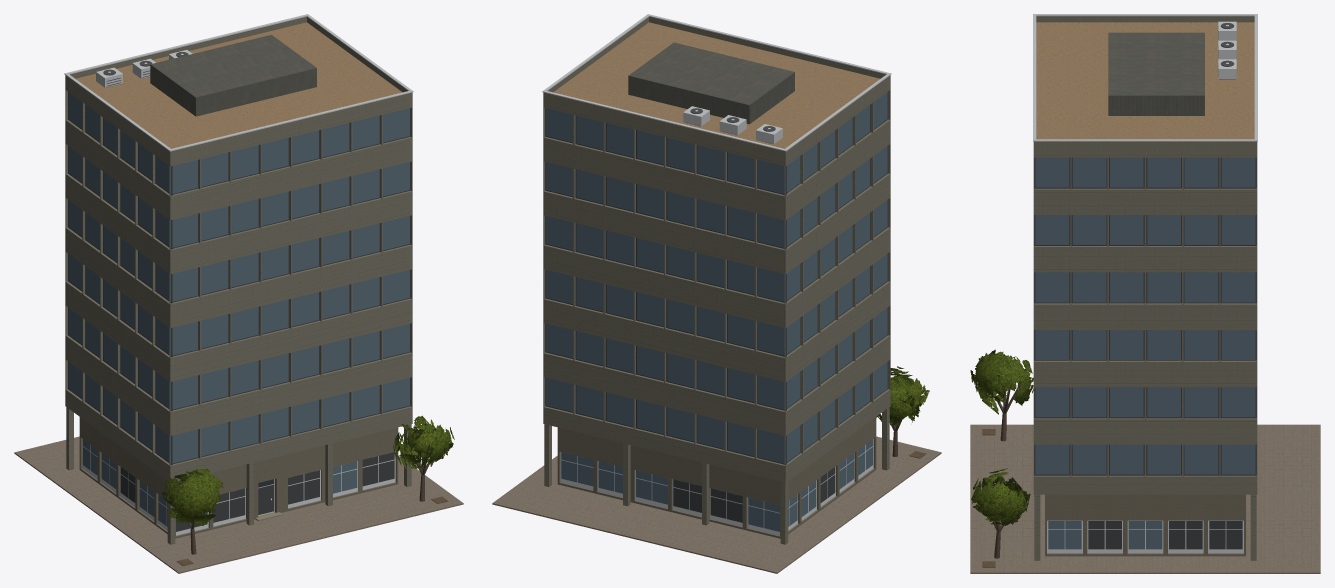
File: office_ribbon.glb
The picture shows the model from 3 angles, left to right: view 1: azimuth 30°, elevation 25°; view 2: azimuth 150°, elevation 25°; view 3: azimuth 270°, elevation 25°; orthographic projection. The views are drawn at different scales.
Visible parts, largest first — view 1: office_ribbon_body, office_ribbon_foliage; view 2: office_ribbon_body, office_ribbon_foliage; view 3: office_ribbon_body, office_ribbon_foliage.
Boxes of the visible parts, x1,y1,x2,y2 form: office_ribbon_body: [14, 14, 463, 573]; office_ribbon_foliage: [161, 415, 454, 525]; office_ribbon_body: [492, 14, 941, 573]; office_ribbon_foliage: [876, 366, 929, 425]; office_ribbon_body: [970, 14, 1320, 573]; office_ribbon_foliage: [970, 349, 1033, 525].
Bounding box in the file's own units: 0.94 × 1.29 × 0.94.
18 materials, 9 textured.
